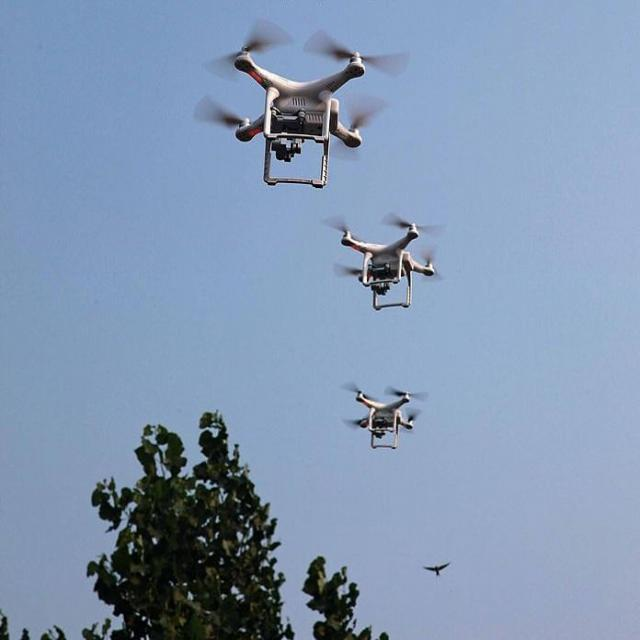UAV: (223, 40, 369, 189), (338, 226, 438, 311), (348, 385, 416, 451)
